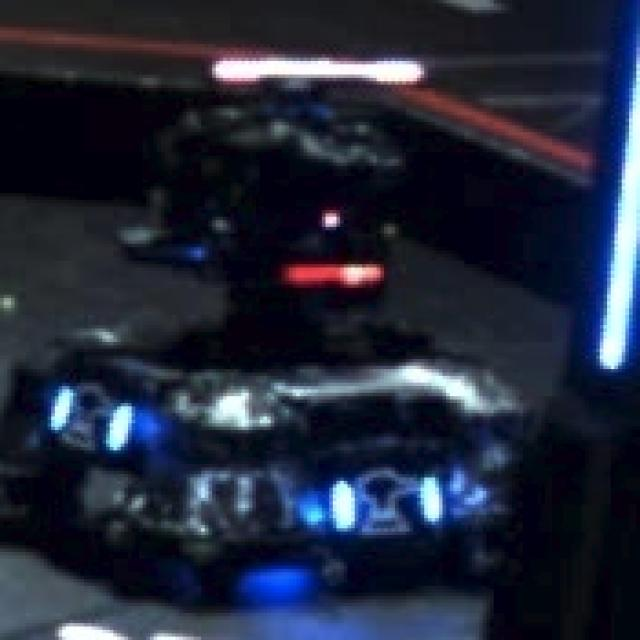Bs: (333, 468, 435, 538), (51, 379, 128, 457)
